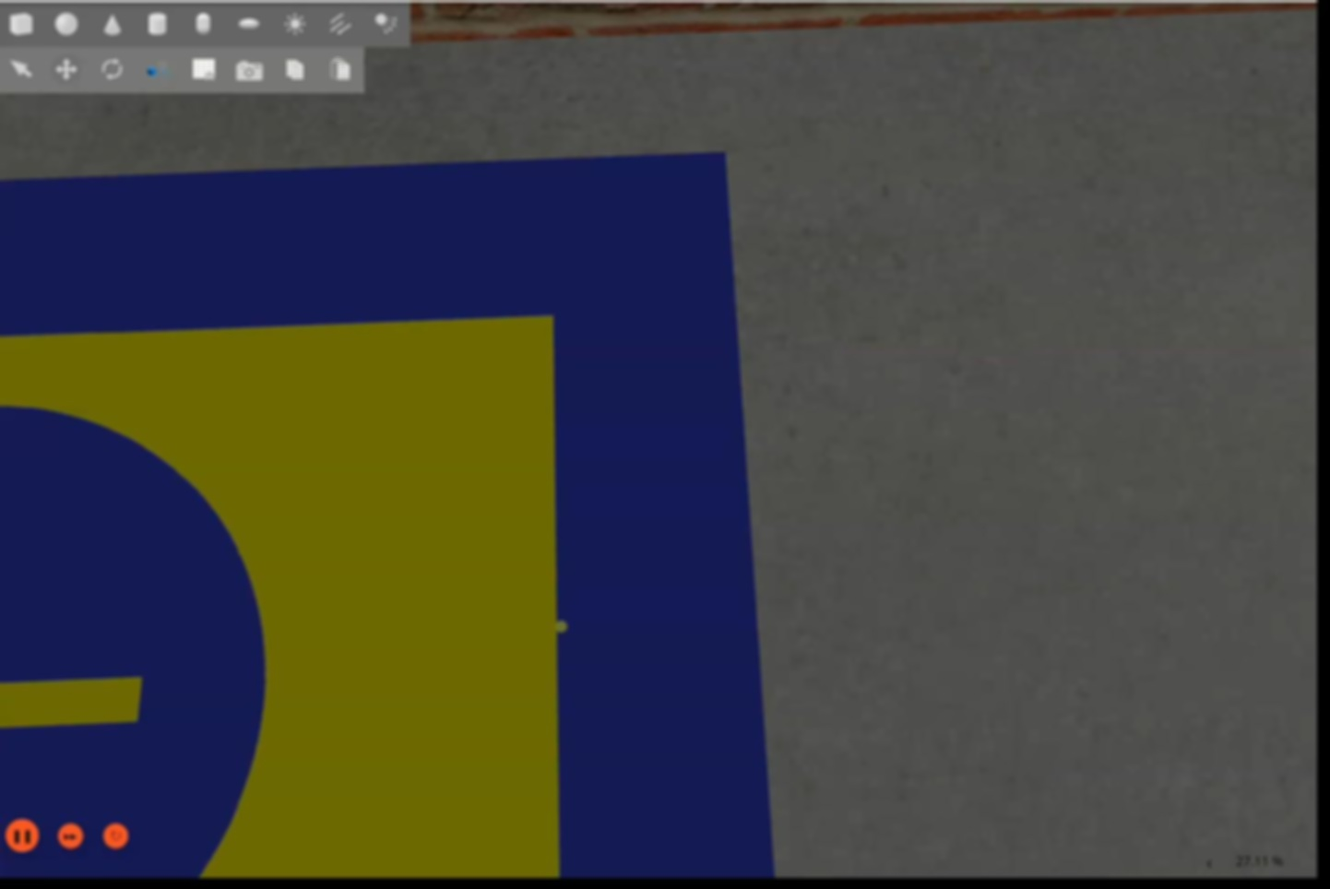large_base: (1, 151, 783, 878)
